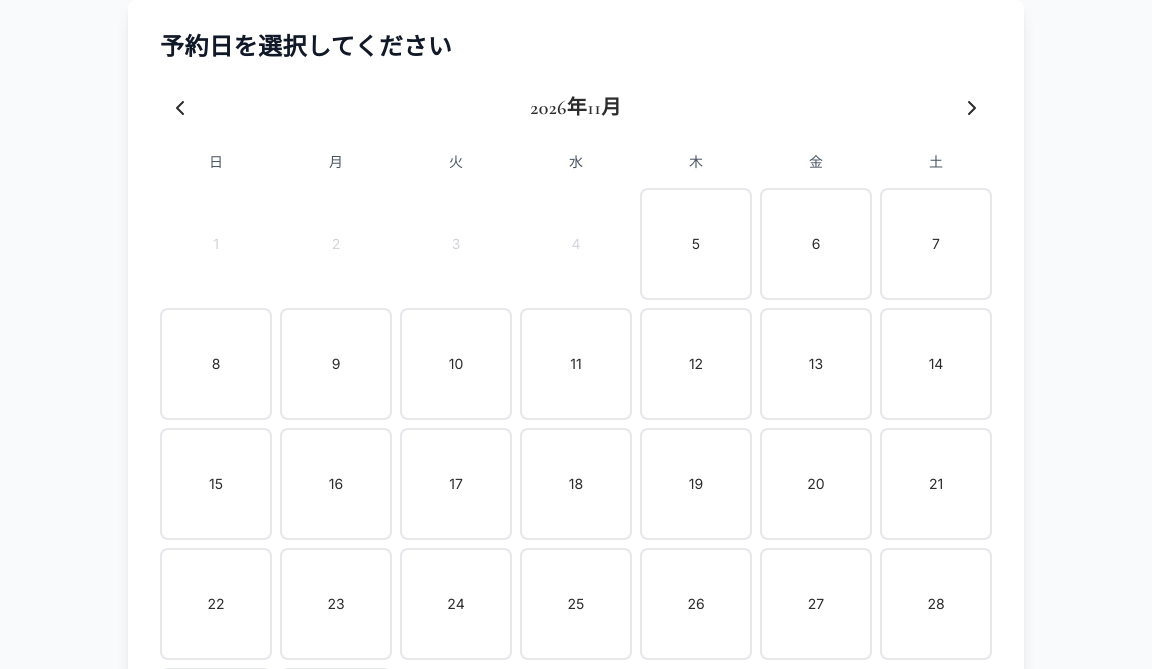
Test: Appointment calendar translations › shows translated labels and weekday names in ja
Check: the heading "予約日を選択してください" is shown, box [160,33,452,62]
Check: the button named "前の月" is shown, box [160,88,200,128]
Click the button named "次の月".
click(972, 108)  # box [952,88,992,128]
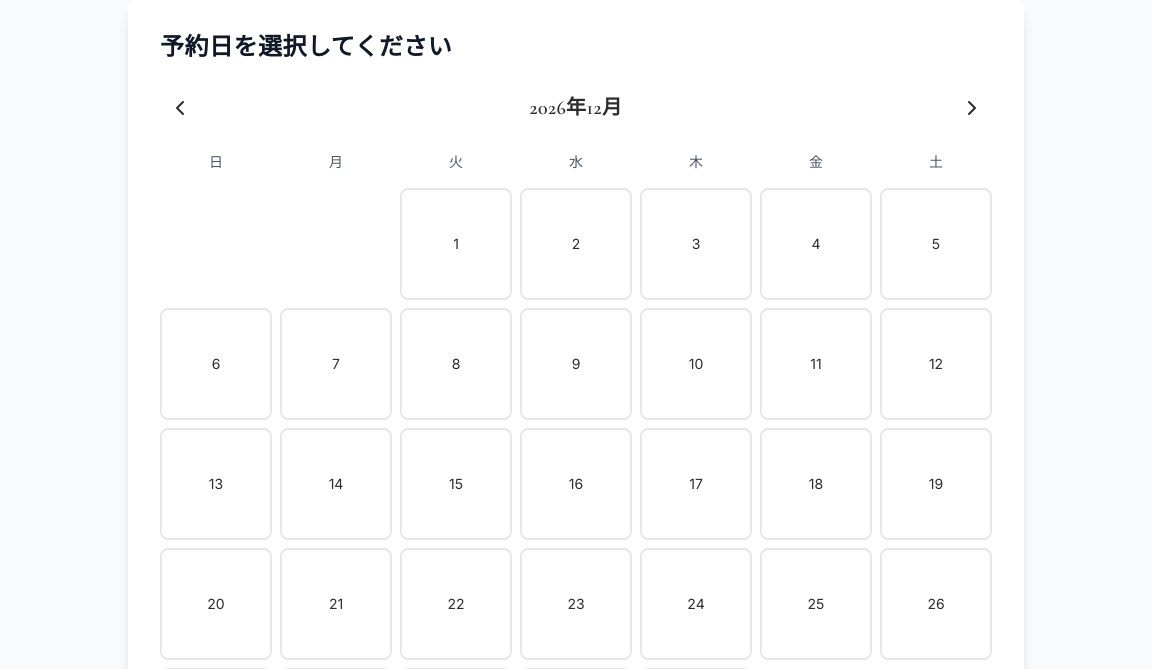
Click the button named "次の月".
click(972, 108)  # box [952,88,992,128]
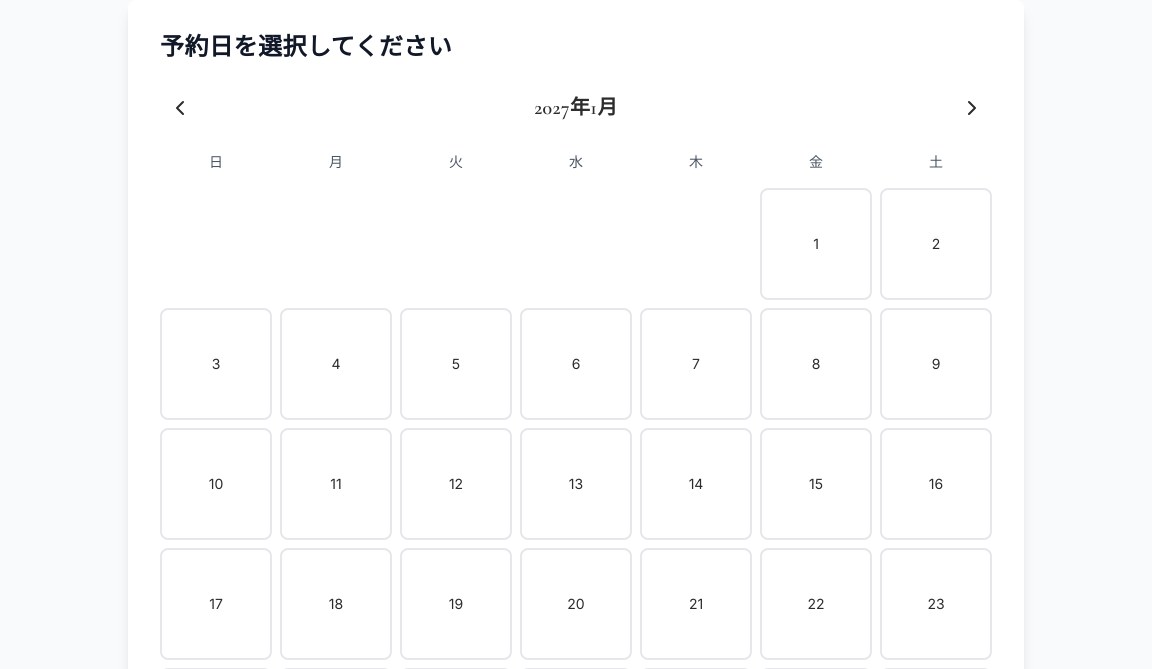
Click the button "1".
click(816, 244)  # box [760,188,872,300]
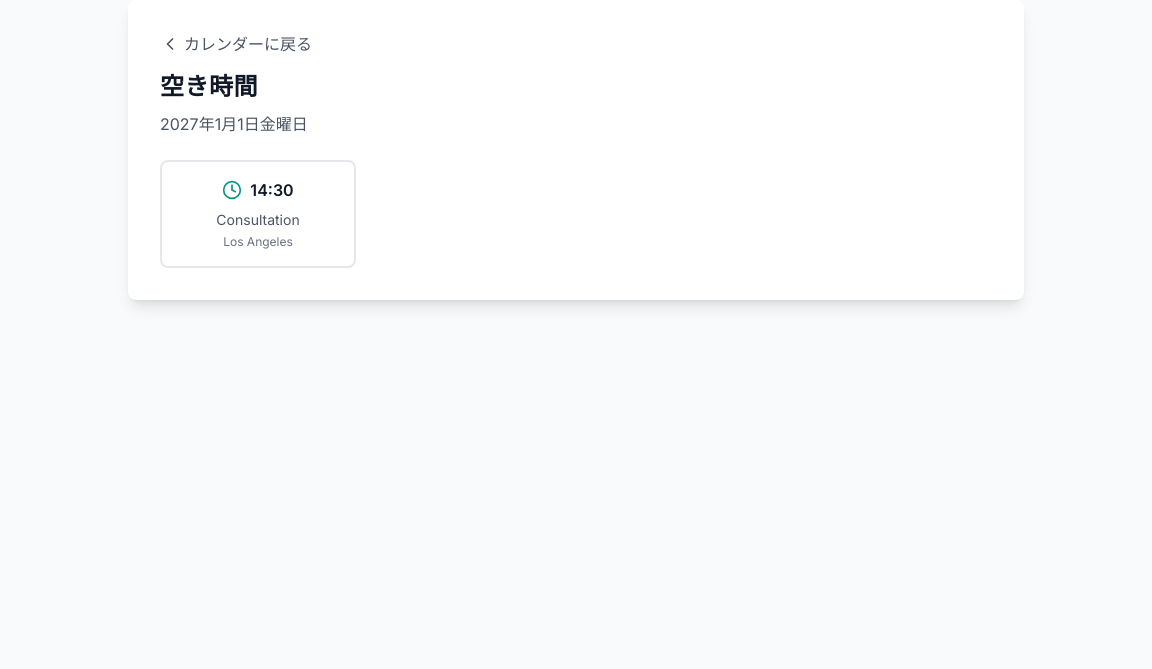
Check: the heading "空き時間" is shown, box [160,73,258,102]
Check: the button "カレンダーに戻る" is shown, box [160,32,312,56]
